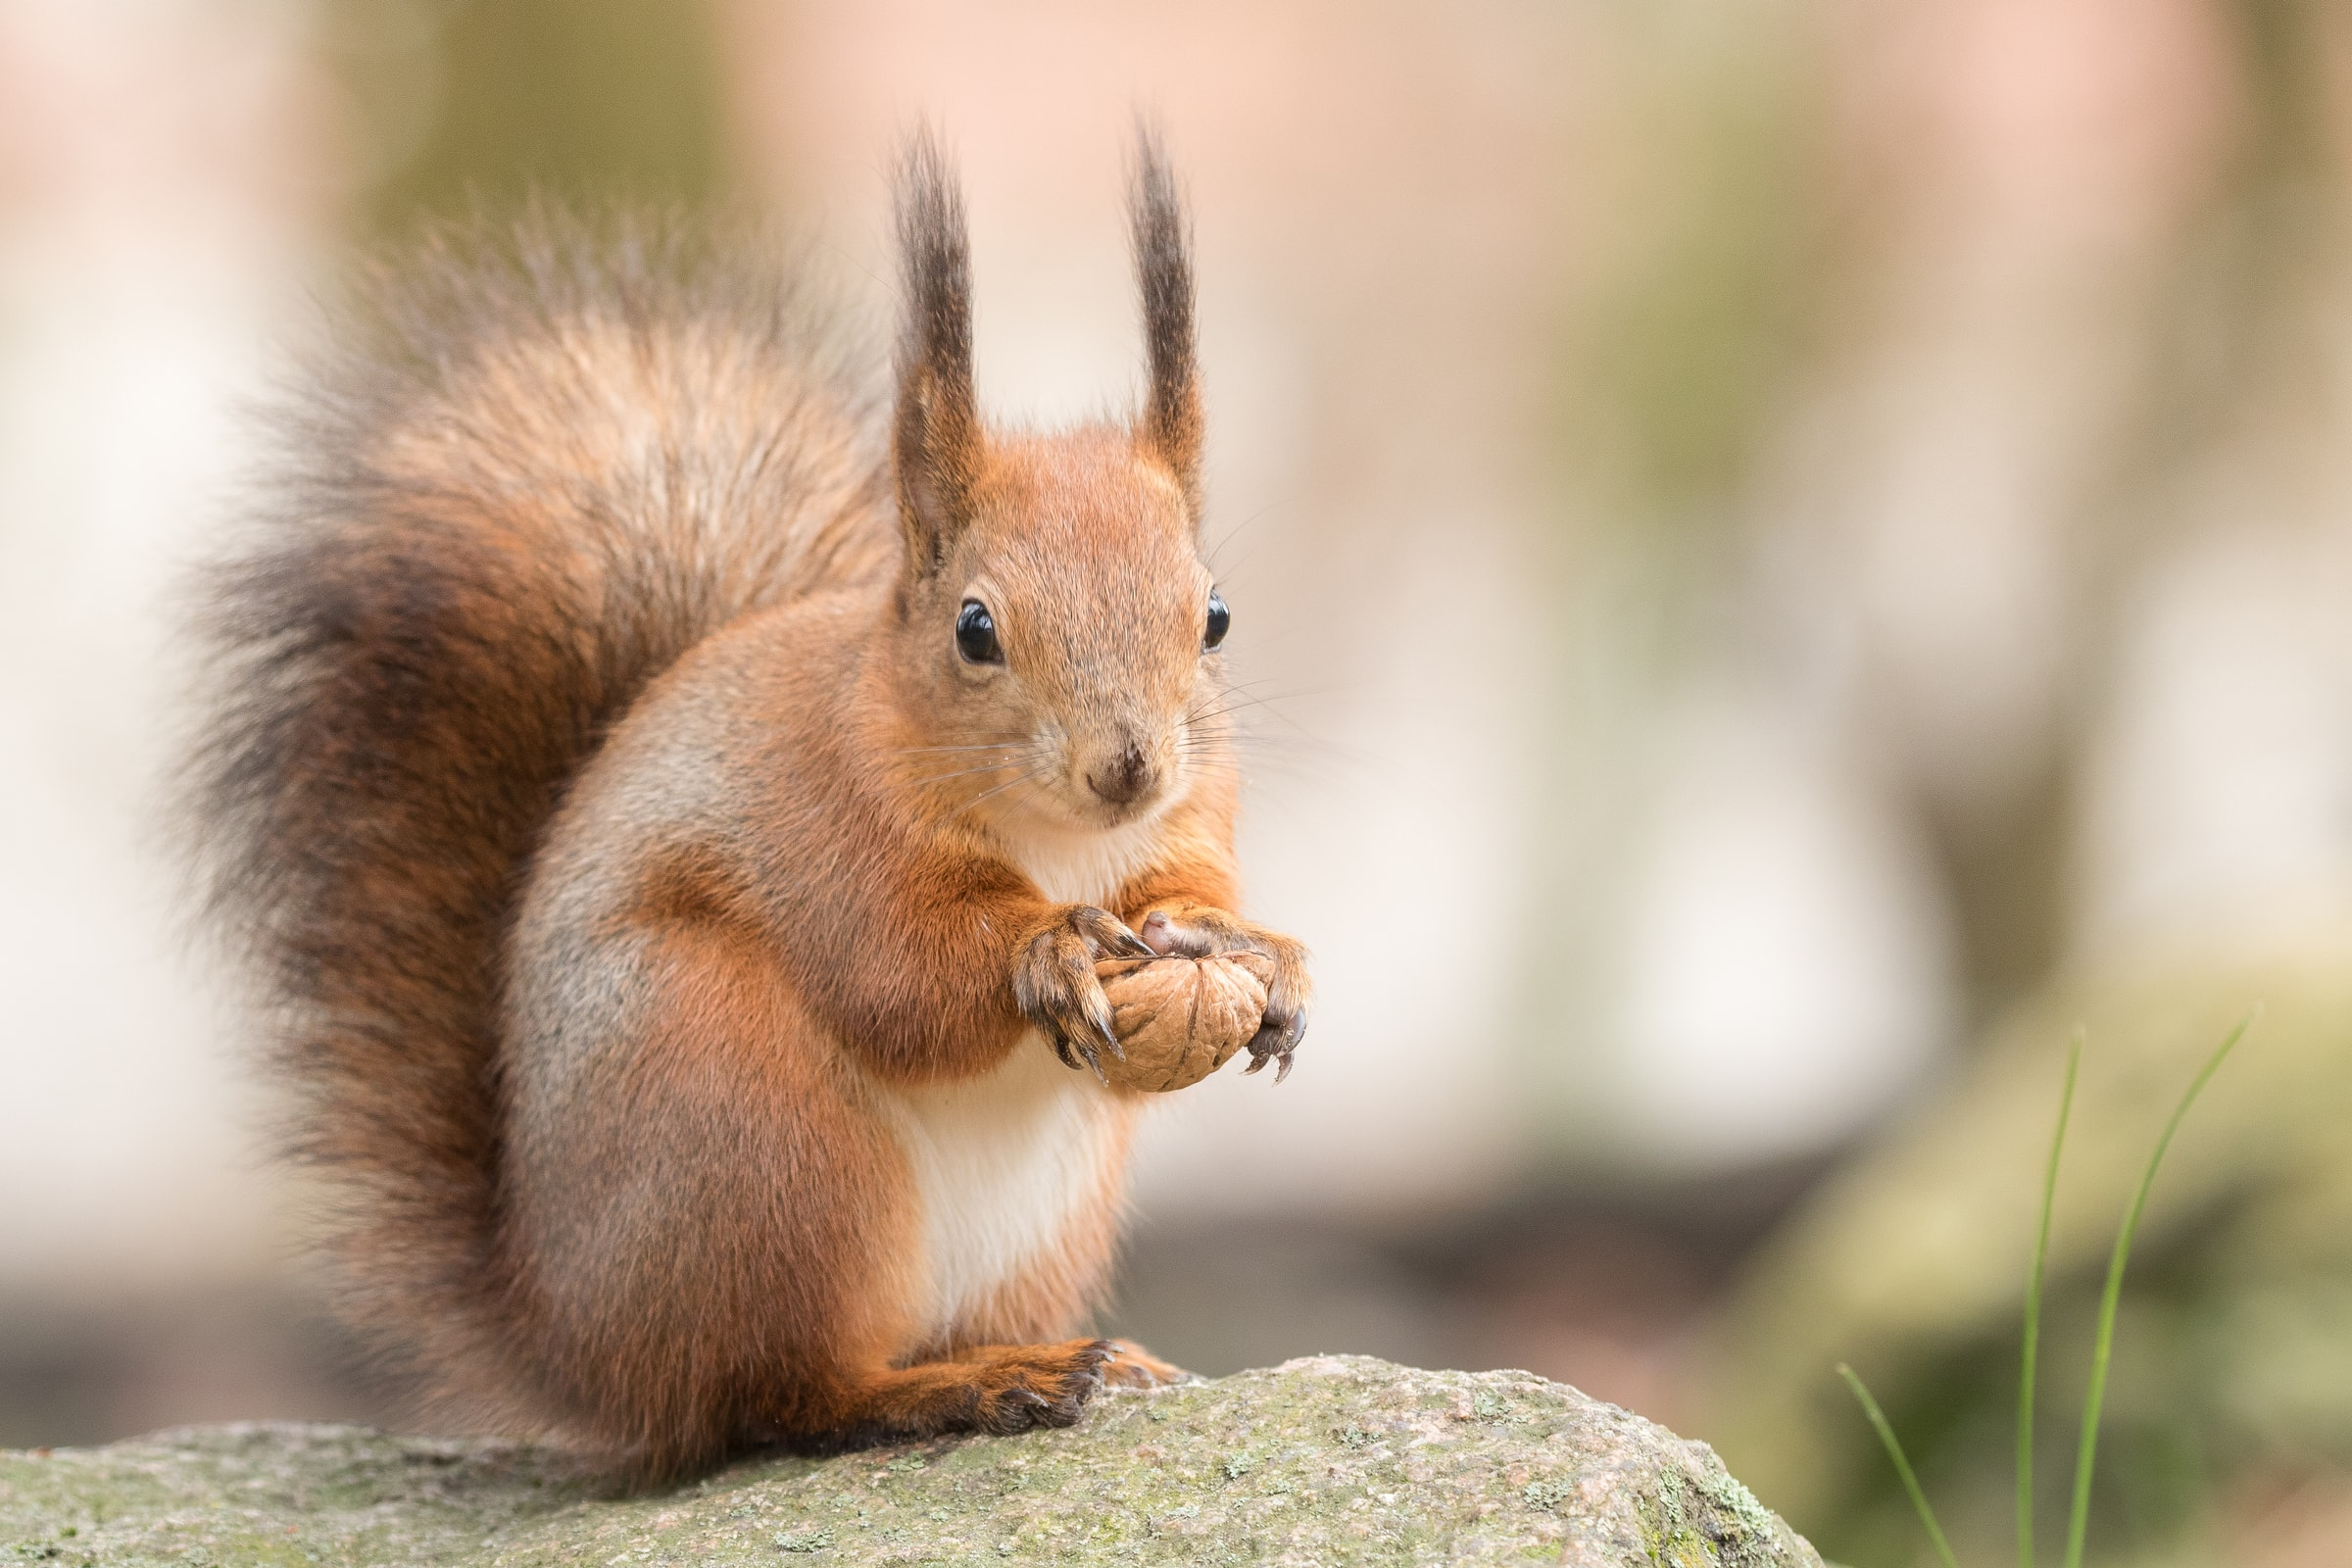squirrel: (266, 166, 1328, 1452)
